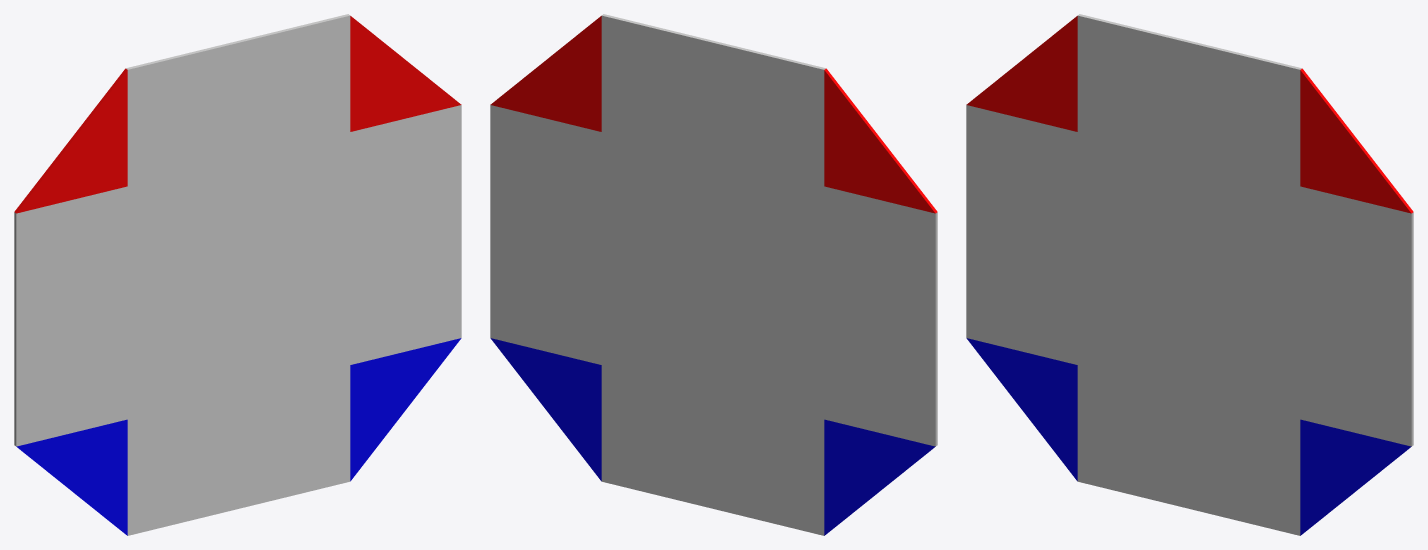
Rendered from large_ring.obj.
3 renders of one model, left to right at view 1: azimuth 30°, elevation 25°; view 2: azimuth 150°, elevation 25°; view 3: azimuth 330°, elevation 25°, orthographic.
Visible parts, largest first — view 1: ソリッド1; view 2: ソリッド1; view 3: ソリッド1.
Boxes of the visible parts, bbox=[...] form: ソリッド1: bbox=[14, 14, 461, 535]; ソリッド1: bbox=[490, 14, 937, 535]; ソリッド1: bbox=[966, 14, 1413, 535].
Bounding box in the file's own units: 3.6 × 3.6 × 0.03.
